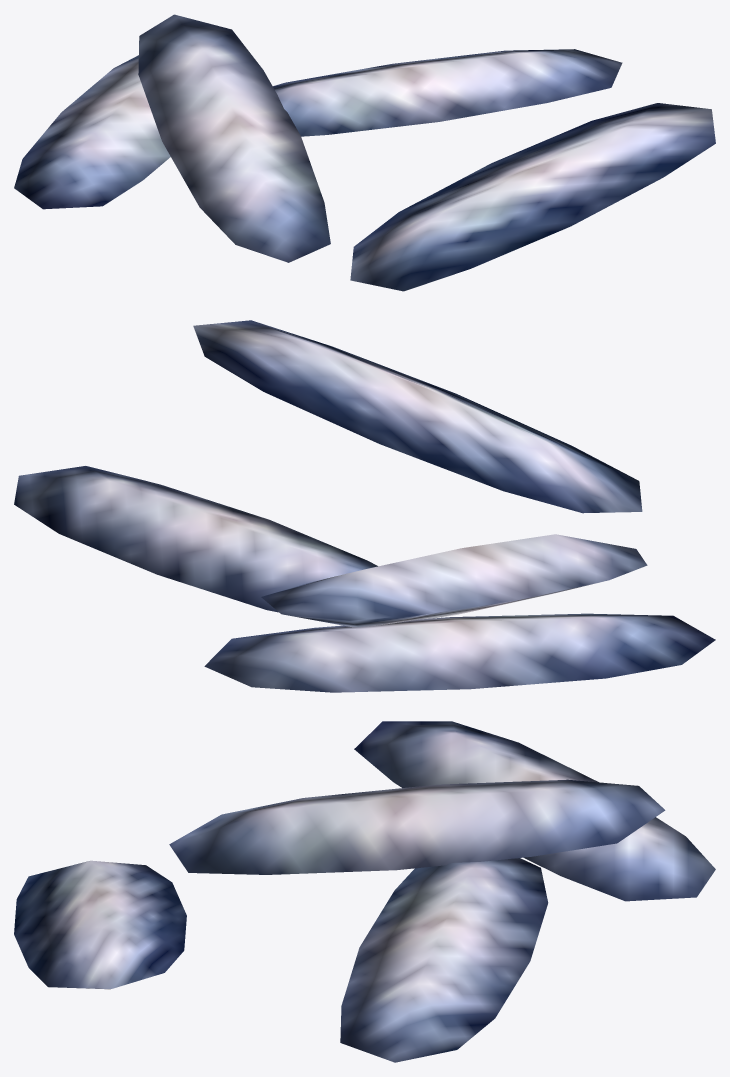
The model's file is KM_SEEDS_01.glb.
3 views of the same model, one above another, from view 1: azimuth 30°, elevation 25°; view 2: azimuth 150°, elevation 25°; view 3: azimuth 270°, elevation 25° (orthographic). The views are drawn at different scales.
Parts seen in each view (by area): view 1: Mesh; view 2: Mesh; view 3: Mesh.
Boxes of the visible parts, x1,y1,x2,y2 form: Mesh: (14,14,715,291); Mesh: (14,320,715,692); Mesh: (14,721,715,1062).
Size of the model in its own units: 0.3483 by 0.0488 by 0.3026.
Materials: 1 (1 with a texture image).
